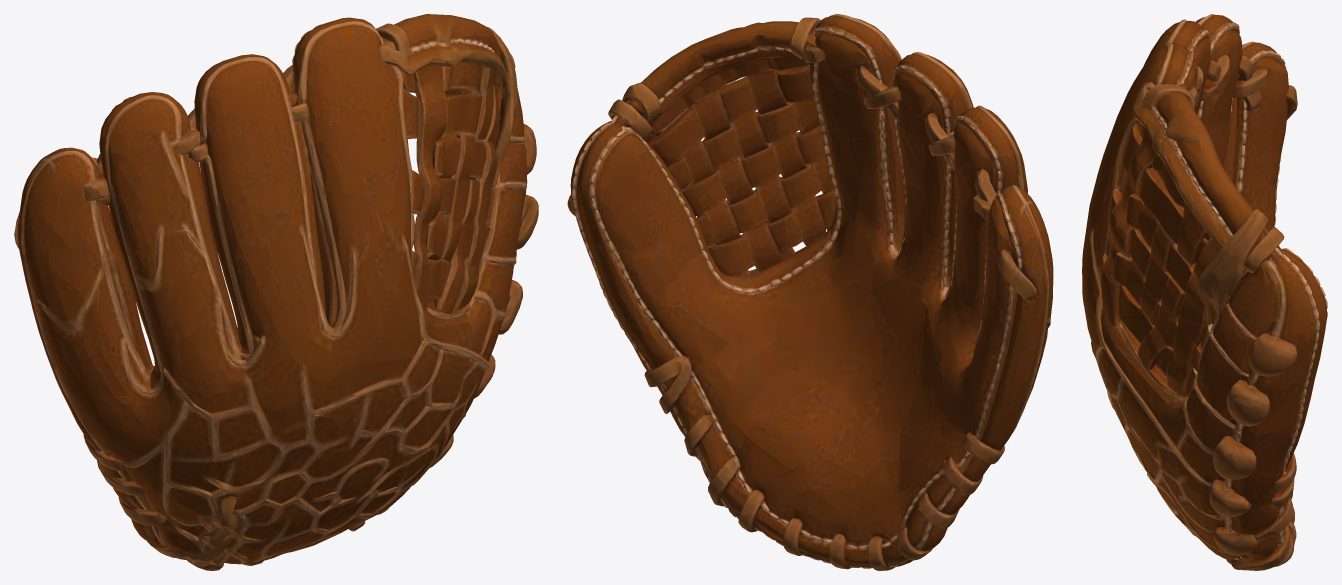
The picture shows the model from 3 angles, left to right: view 1: azimuth 30°, elevation 25°; view 2: azimuth 150°, elevation 25°; view 3: azimuth 270°, elevation 25°; orthographic projection. The views are drawn at different scales.
Visible parts, largest first — view 1: output_unwrapped; view 2: output_unwrapped; view 3: output_unwrapped.
Boxes of the visible parts, x1,y1,x2,y2 form: output_unwrapped: (14,14,538,570); output_unwrapped: (567,14,1053,570); output_unwrapped: (1082,14,1327,570).
Bounding box in the file's own units: 1.85 × 1.9 × 0.8308.
Materials: 1 (1 with a texture image).
